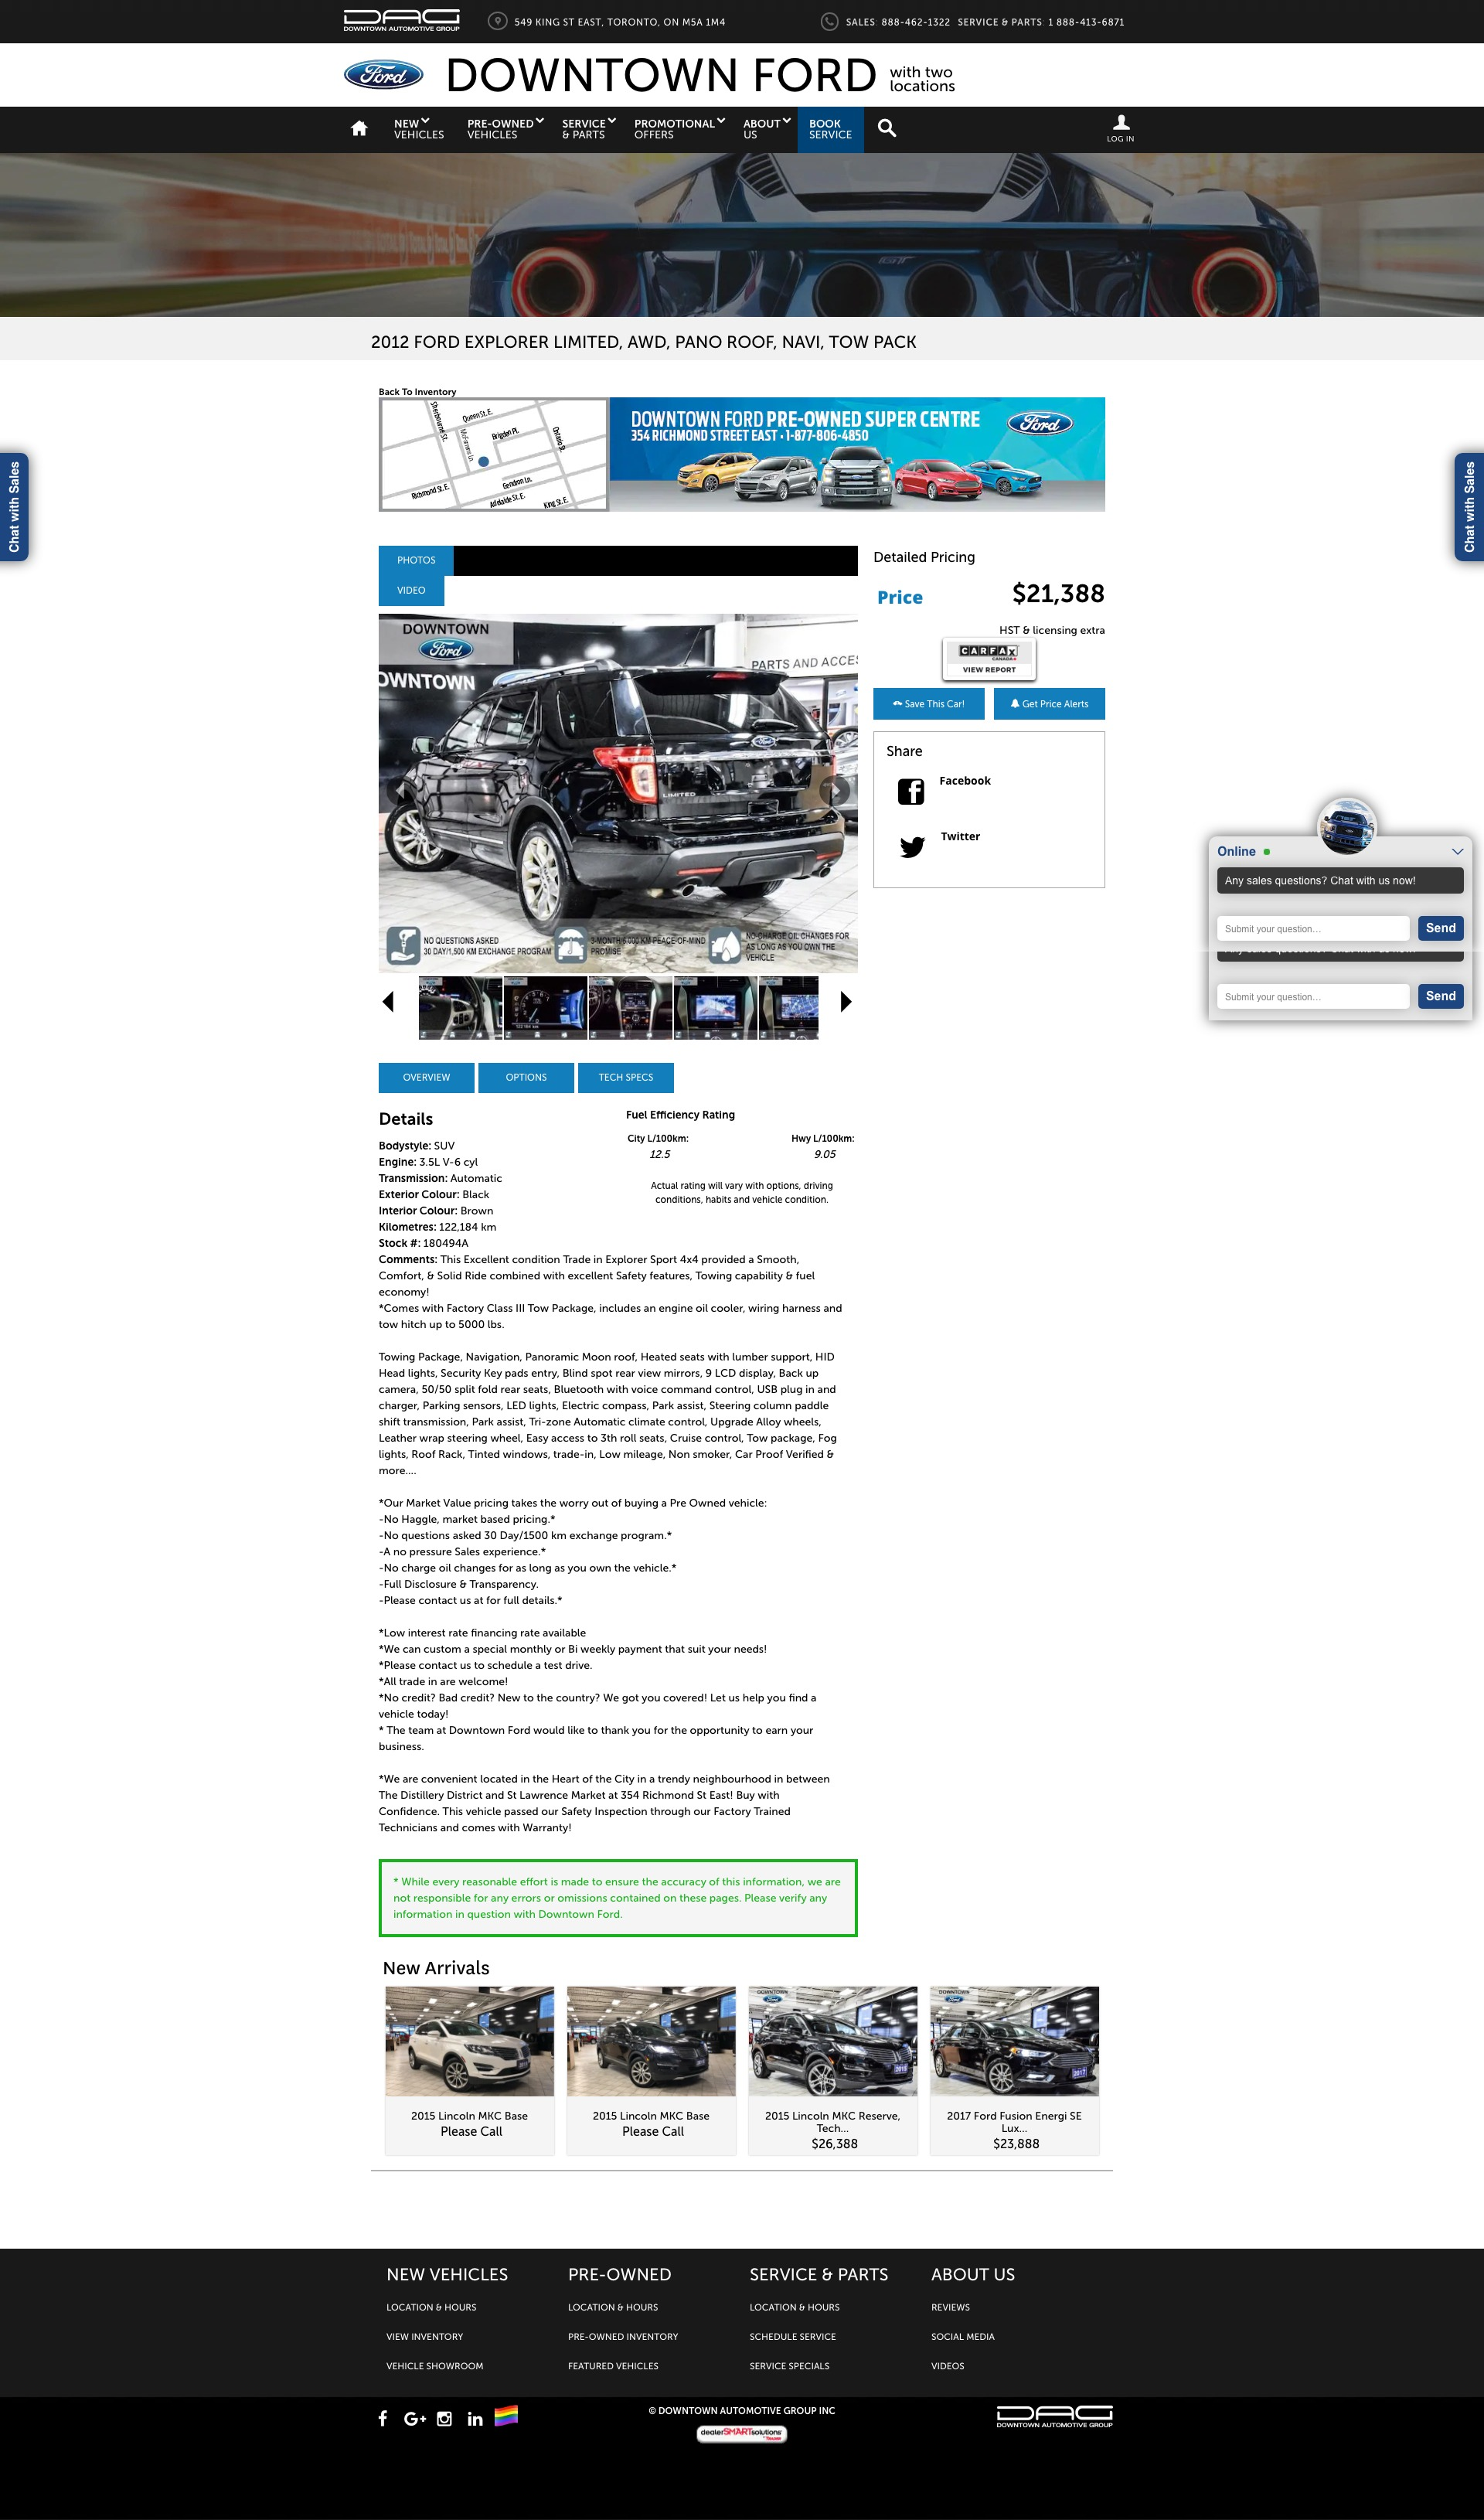car: (841, 991, 853, 1014)
